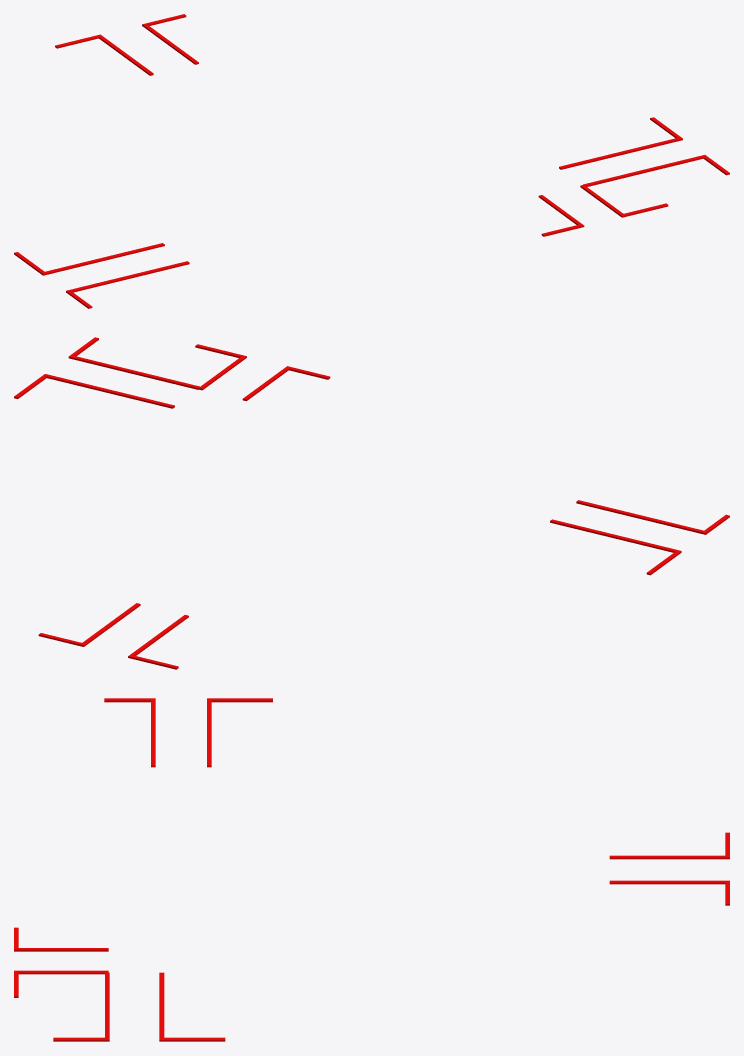
The model's file is NPCBarriers.FBX.
3 renders of one model, top to bottom at view 1: azimuth 30°, elevation 25°; view 2: azimuth 150°, elevation 25°; view 3: azimuth 270°, elevation 25°, orthographic. The views are drawn at different scales.
Visible parts, largest first — view 1: NPCBarrier006, NPCBarrier009, NPCBarrier004, NPCBarrier005; view 2: NPCBarrier006, NPCBarrier009, NPCBarrier004, NPCBarrier005; view 3: NPCBarrier013, NPCBarrier016.
Part boxes in pixels (box(x1,y1,x2,y2)): NPCBarrier006: box(559, 137, 680, 169); NPCBarrier009: box(583, 155, 704, 186); NPCBarrier004: box(70, 261, 189, 292); NPCBarrier005: box(45, 243, 164, 274); NPCBarrier006: box(46, 374, 174, 408); NPCBarrier009: box(71, 355, 199, 389); NPCBarrier004: box(576, 500, 703, 533); NPCBarrier005: box(550, 519, 677, 552); NPCBarrier013: box(609, 855, 729, 859); NPCBarrier016: box(609, 880, 729, 884).
Bounding box in the file's own units: 41377 × 100 × 36664.
